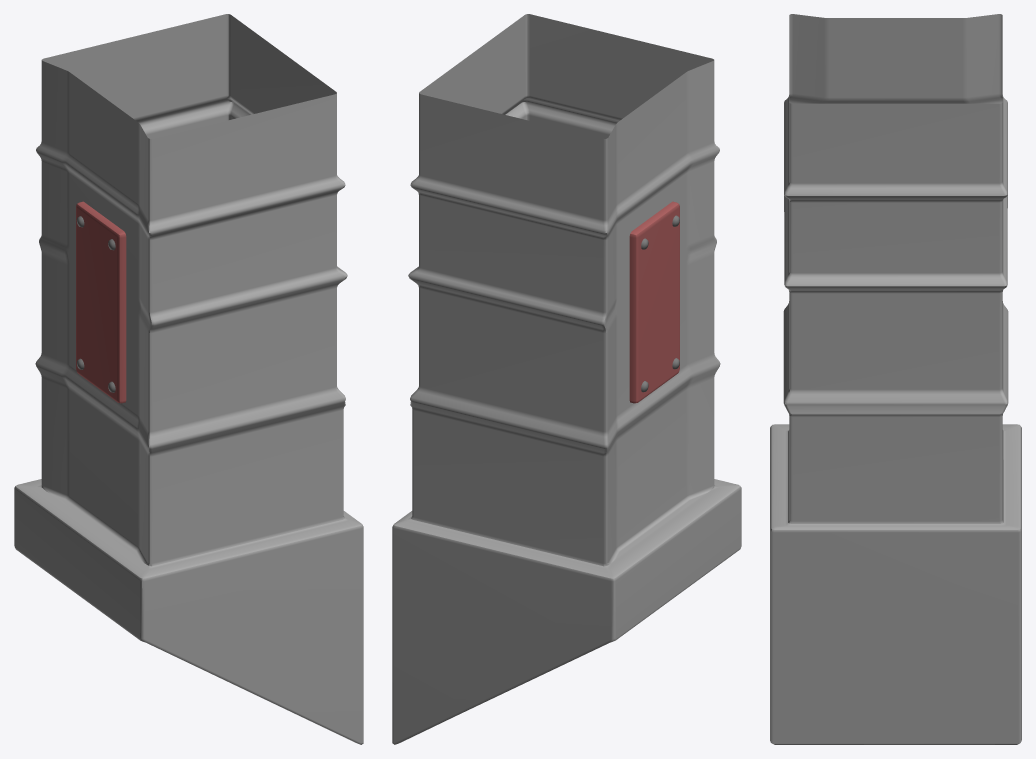
File: SM_DownSchute.fbx
3 renders of one model, left to right at view 1: azimuth 30°, elevation 25°; view 2: azimuth 150°, elevation 25°; view 3: azimuth 270°, elevation 25°, orthographic. The views are drawn at different scales.
Visible parts, largest first — view 1: pCylinder6; view 2: pCylinder6; view 3: pCylinder6.
Boxes of the visible parts, x1,y1,x2,y2 form: pCylinder6: [14, 14, 363, 744]; pCylinder6: [392, 14, 741, 744]; pCylinder6: [770, 14, 1021, 744].
Bounding box in the file's own units: 100 × 278 × 100.
